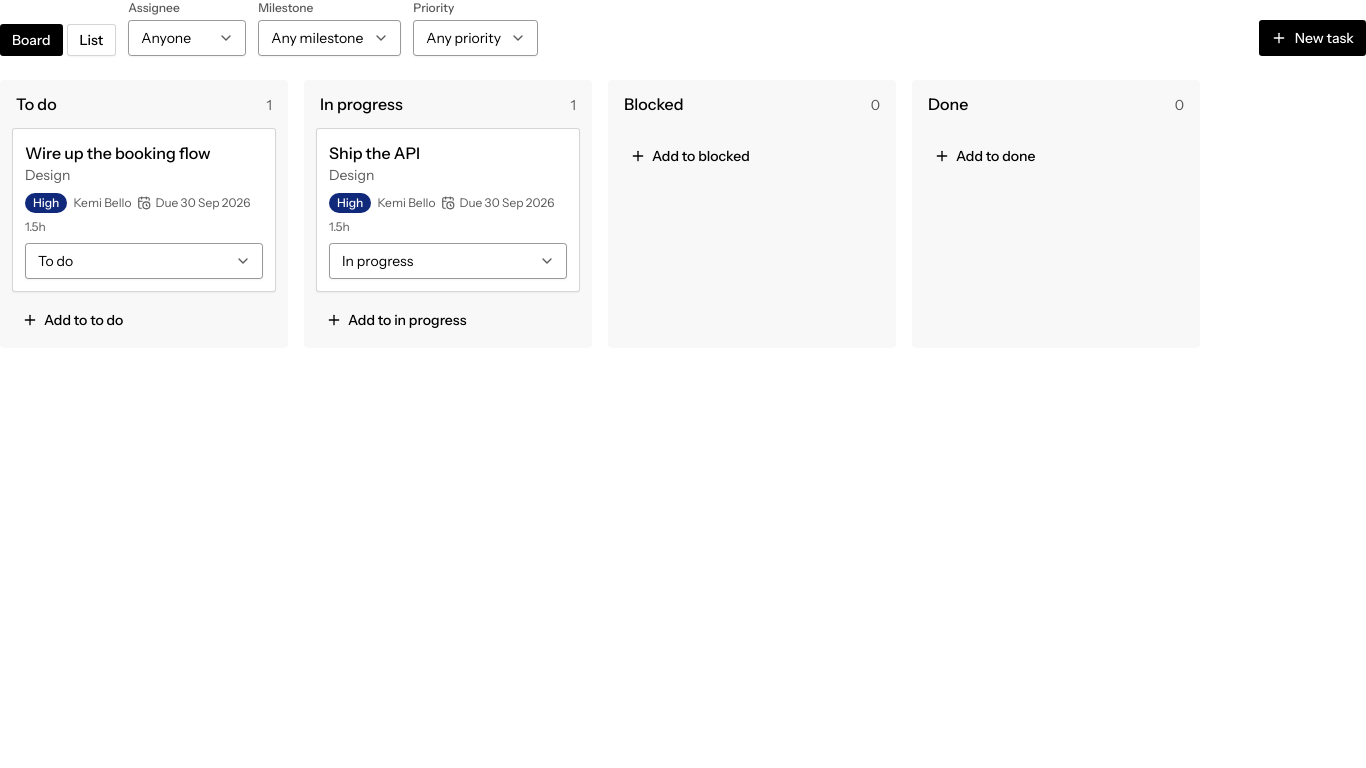
Test: TaskBoard › opens a task at once and puts it in the address bar
The width and height of the screenshot is (1366, 768).
Click the button "Wire up the booking flow Design" at [118, 163], box [25,141,211,185]
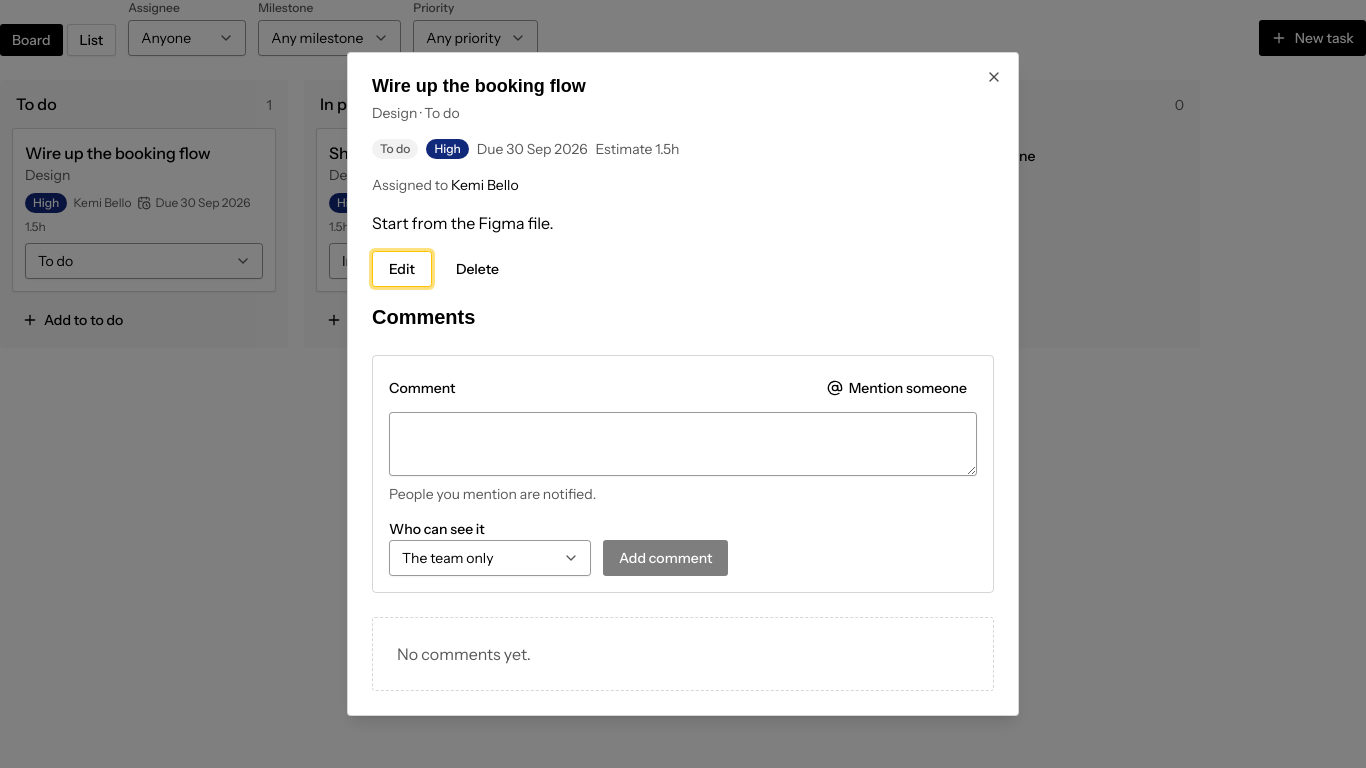
Now the dialog "Wire up the booking flow" is shown, box [347,52,1019,716]
Press Escape
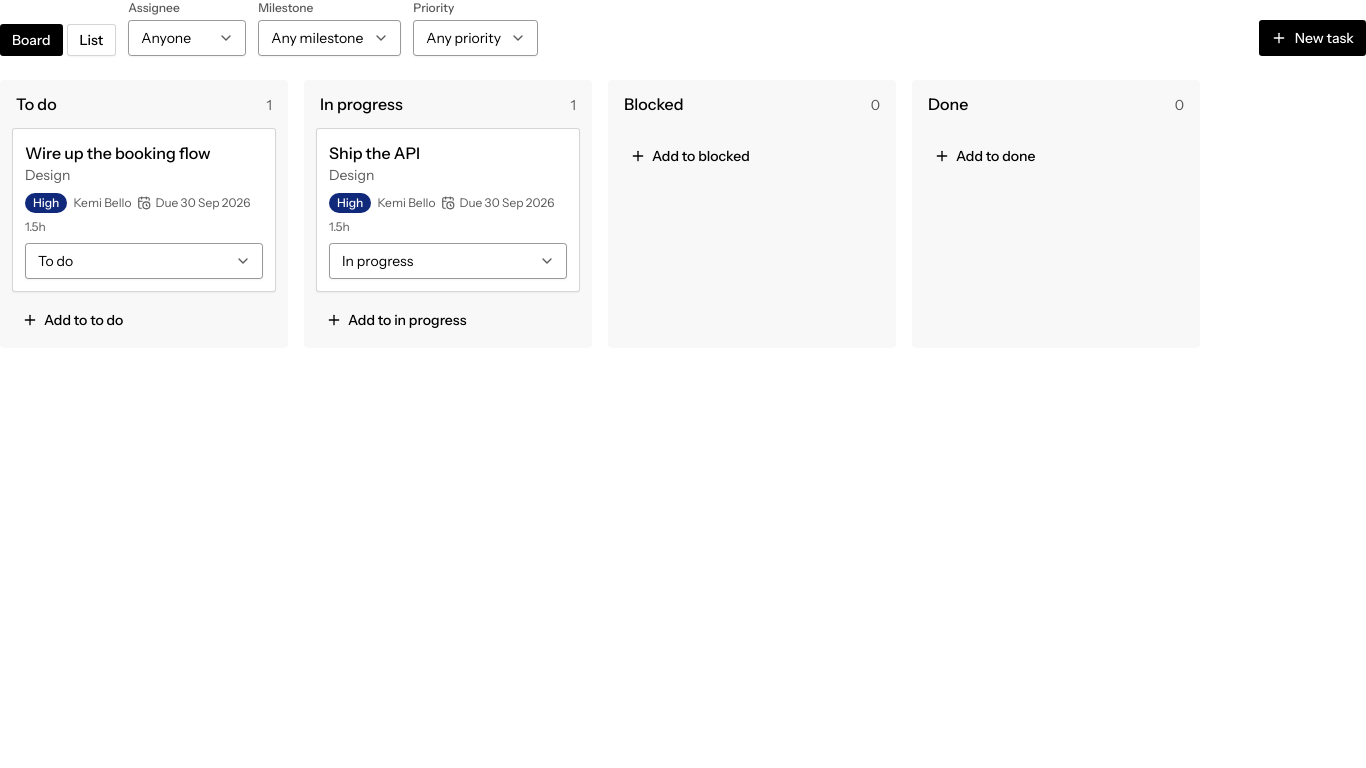
Now the dialog is gone
